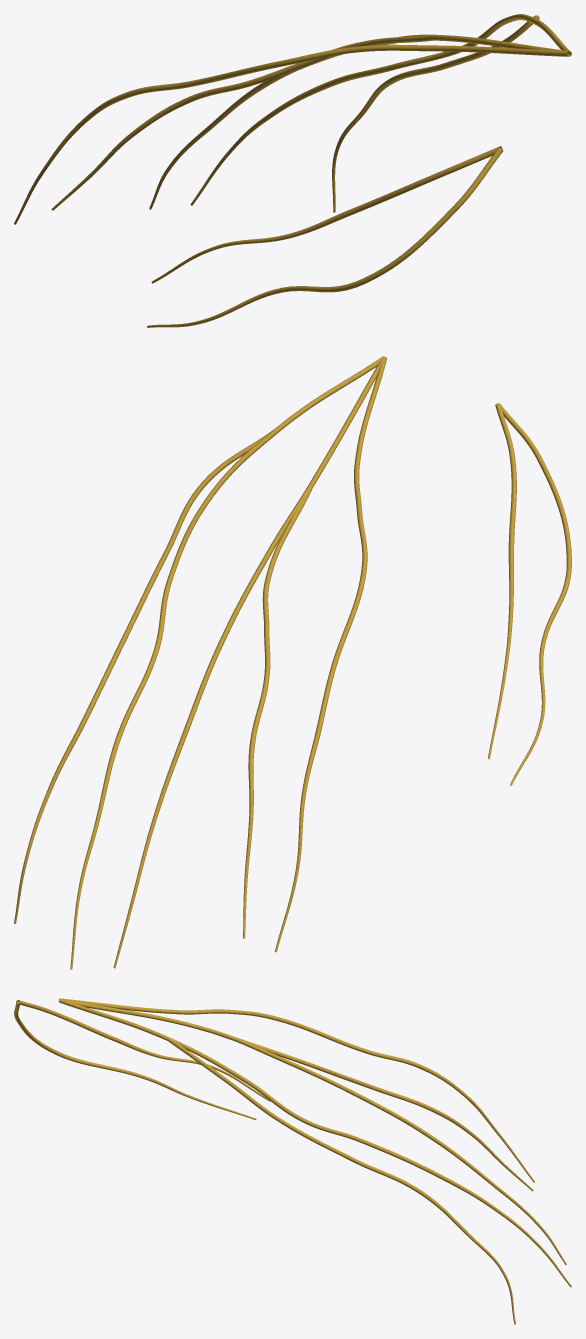
3 renders of one model, top to bottom at view 1: azimuth 30°, elevation 25°; view 2: azimuth 150°, elevation 25°; view 3: azimuth 270°, elevation 25°, orthographic. The views are drawn at different scales.
Parts seen in each view (by area): view 1: 右侧桡神经指背神经; view 2: 右侧桡神经指背神经; view 3: 右侧桡神经指背神经.
Boxes of the visible parts, x1,y1,x2,y2 form: 右侧桡神经指背神经: (14, 14, 571, 327); 右侧桡神经指背神经: (14, 356, 571, 969); 右侧桡神经指背神经: (14, 998, 571, 1324).
Bounding box in the file's own units: 0.1063 × 0.114 × 0.1954.
